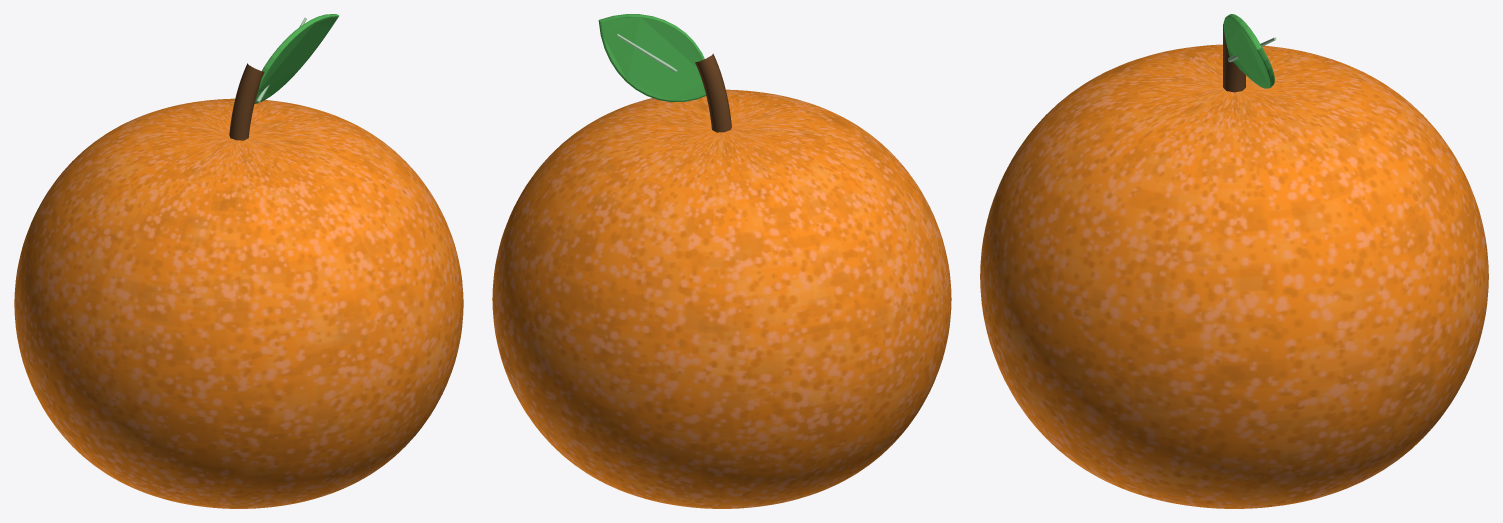
File: tangerine.glb
The picture shows the model from 3 angles, left to right: view 1: azimuth 30°, elevation 25°; view 2: azimuth 150°, elevation 25°; view 3: azimuth 270°, elevation 25°; orthographic projection. The views are drawn at different scales.
Bounding box in the file's own units: 0.1518 × 0.1601 × 0.1518.
Materials: 4 (1 with a texture image).
